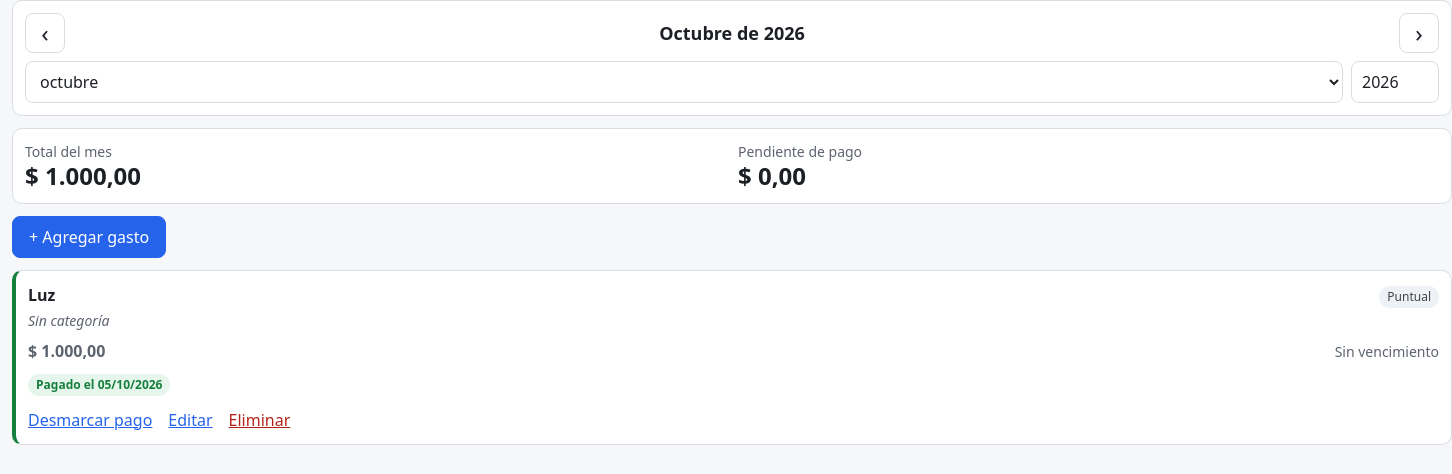
Scenario: ExpensesPage › desmarca un pago sin volver a pedir la lista
The width and height of the screenshot is (1452, 474).
Click the button with aria-label "Desmarcar pago de Luz" at (90, 420), box [28,408,152,432]
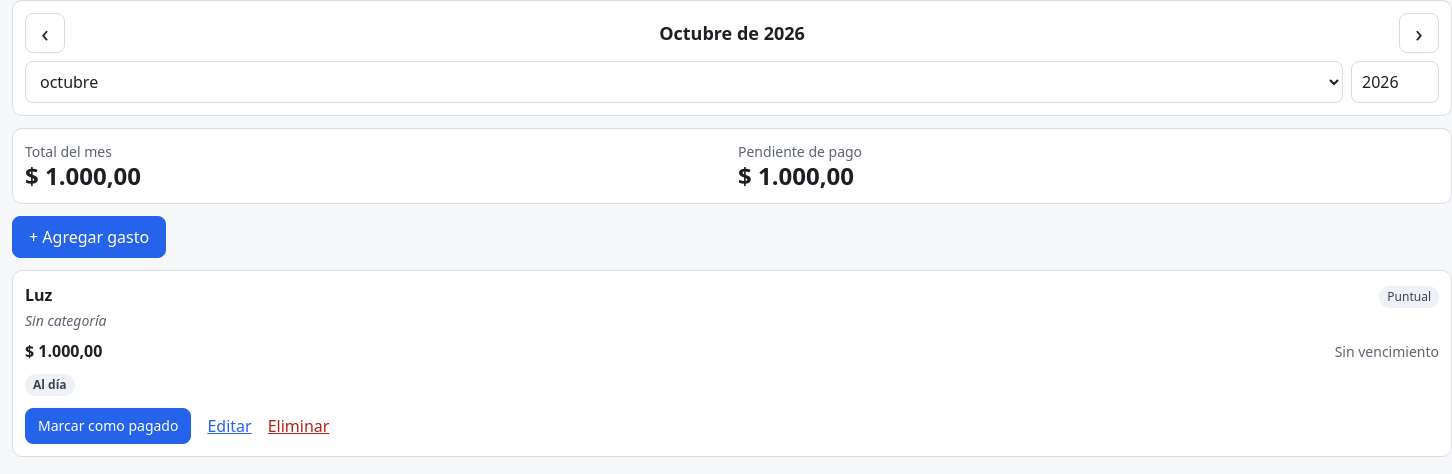
expect the button with aria-label "Marcar Luz como pagado" is shown: met, box [25,408,192,444]
expect the text "Pagado el" is gone: met
